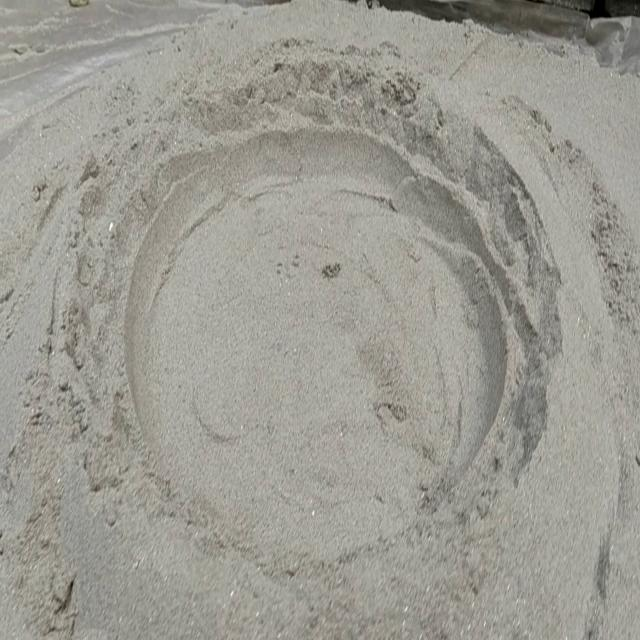C40: (131, 120, 543, 536)
